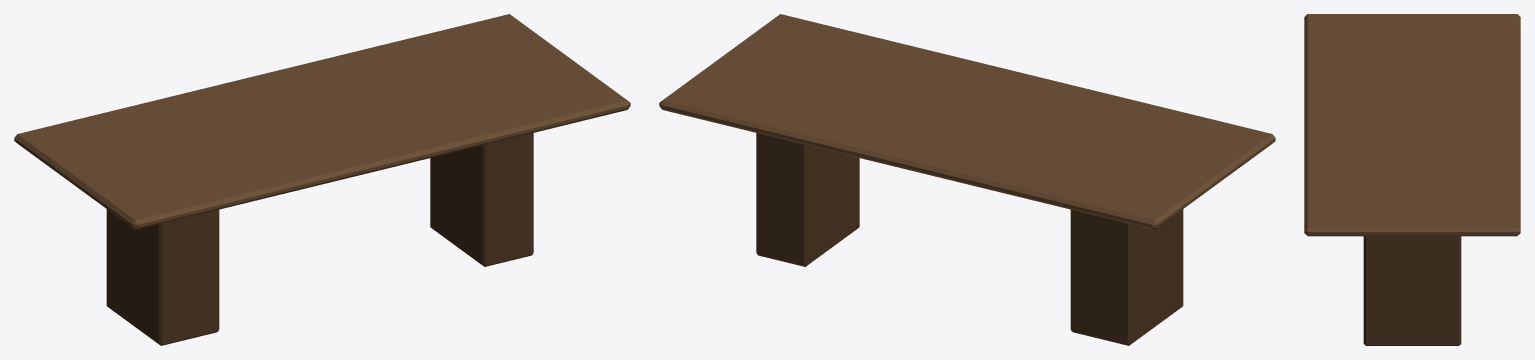
File: meeting-table-13.glb
The picture shows the model from 3 angles, left to right: view 1: azimuth 30°, elevation 25°; view 2: azimuth 150°, elevation 25°; view 3: azimuth 270°, elevation 25°; orthographic projection. The views are drawn at different scales.
Parts seen in each view (by area): view 1: meeting_table_13; view 2: meeting_table_13; view 3: meeting_table_13.
Part boxes in pixels (box(x1,y1,x2,y2)): meeting_table_13: box(14, 14, 630, 345); meeting_table_13: box(659, 14, 1275, 345); meeting_table_13: box(1304, 14, 1520, 345).
Bounding box in the file's own units: 2.33 × 0.7338 × 0.9862.
